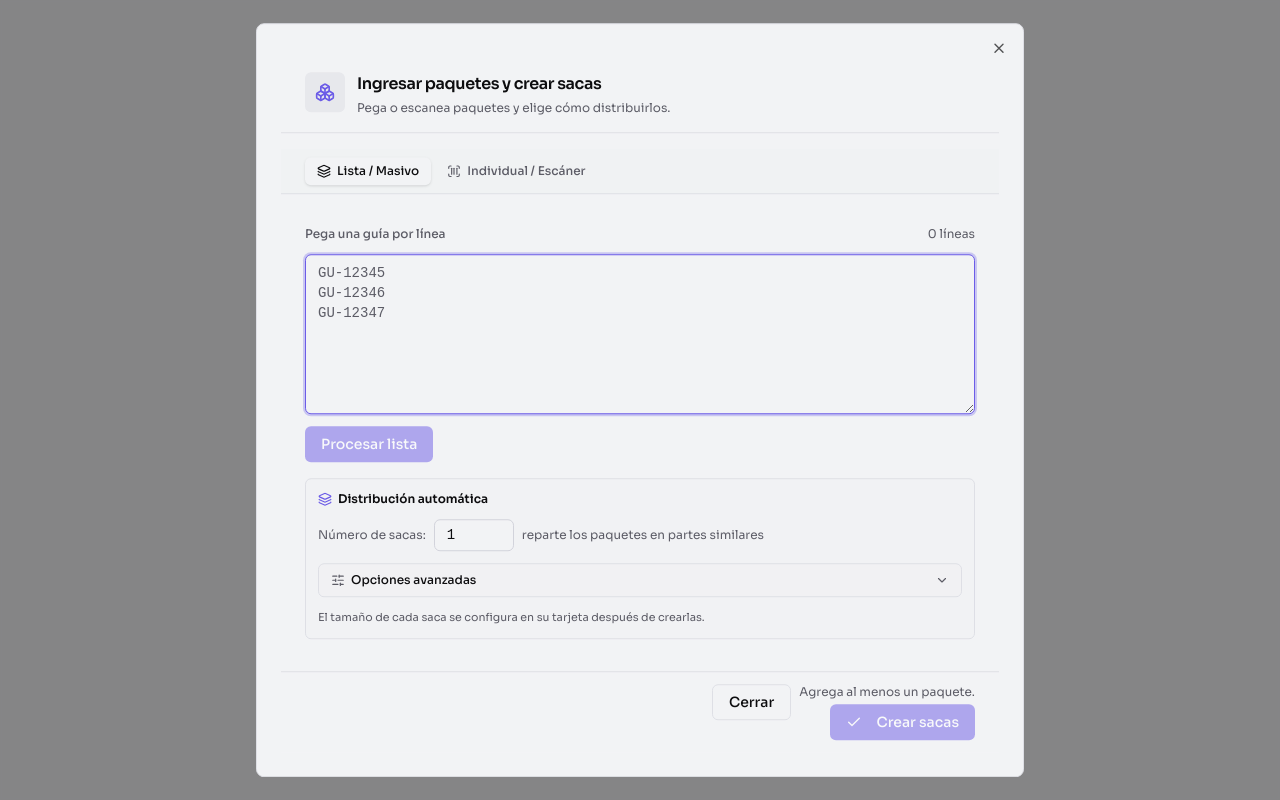
Test: AgregarPaquetesSacaDialog › mantiene las opciones avanzadas disponibles
What coordinates should you click on to do the following:
click the button "Opciones avanzadas"
I would click on:
 (414, 580)
Its box is [319,564,961,596].
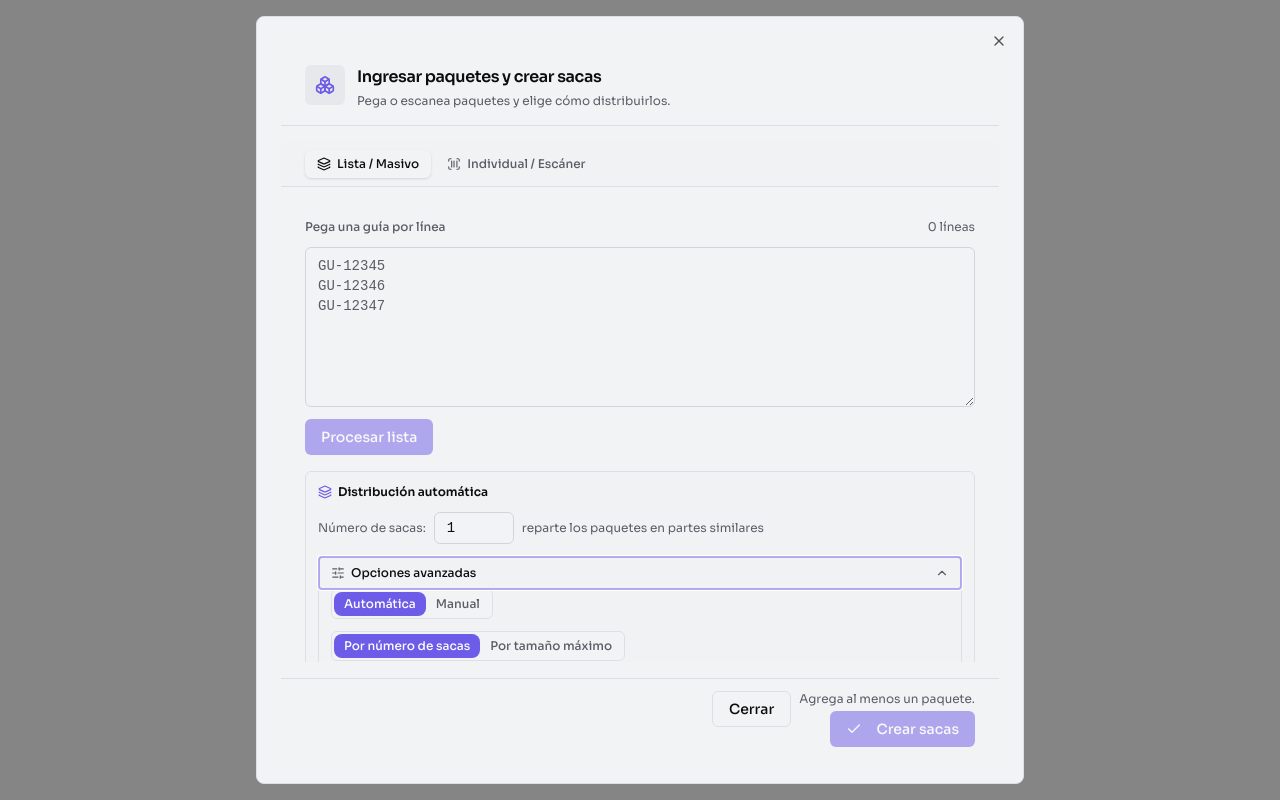
expect the button "Manual" is shown: met, box [426,592,490,616]
expect the button "Por tamaño máximo" is shown: met, box [480,634,622,658]
